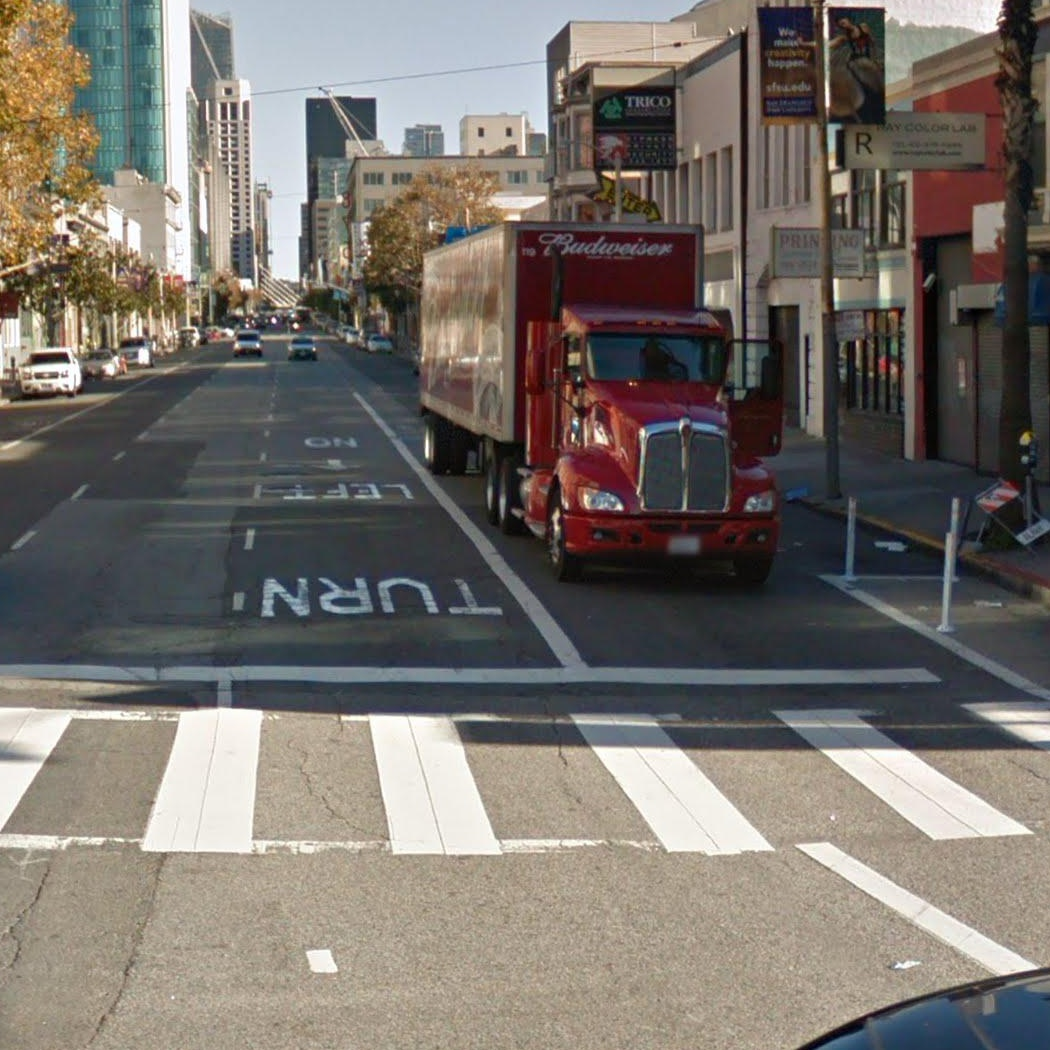No Parking: (833, 309, 867, 343)
